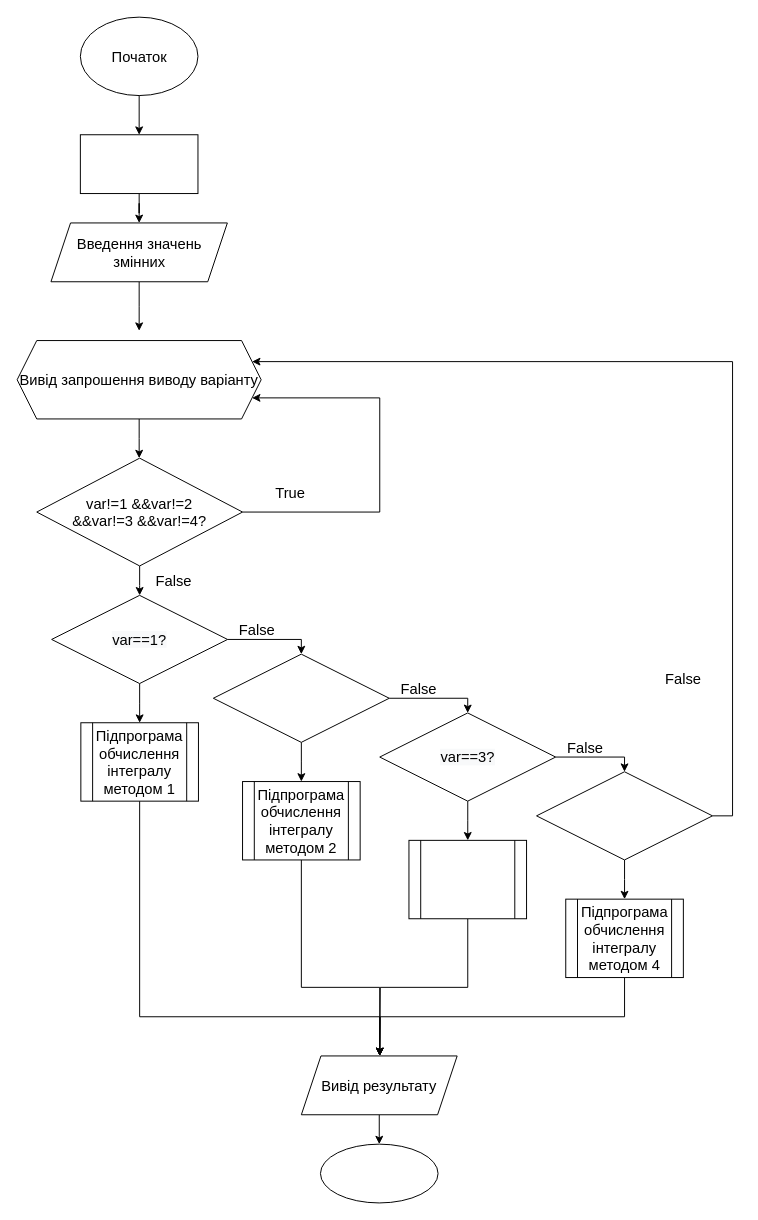
This 758x1220 diagram has some shape labels left out. The centre of each missing label's shape, as x and y in pixels:
var==2?: [300,697]
var==4?: [624,815]
Кінець: [378,1173]
Оголошення змінних: [138,164]
Підпрограма обчислення інтегралу методом 3: [467,879]
